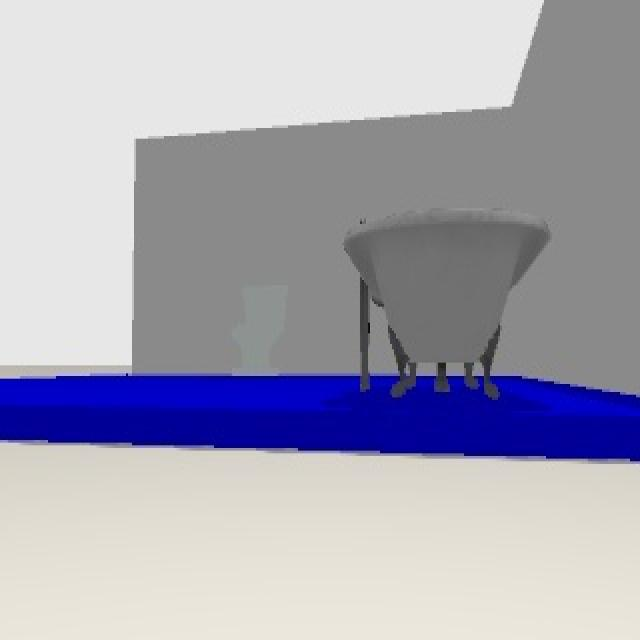bathtub: (335, 206, 554, 406)
